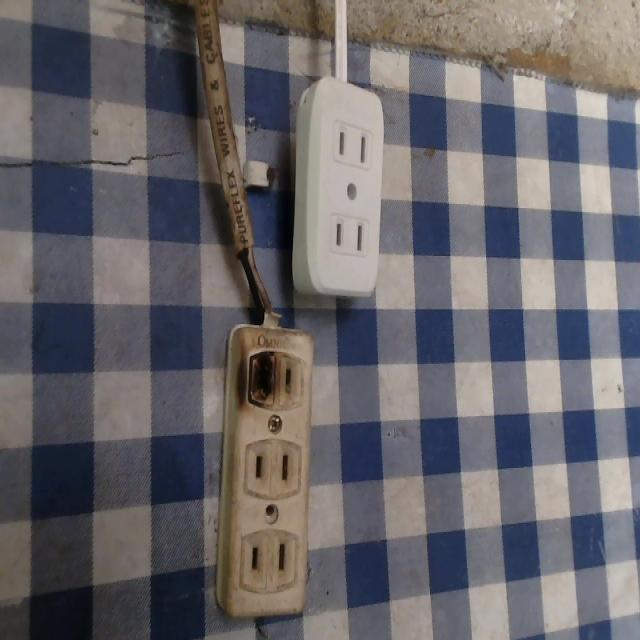-: (245, 338, 280, 414)
